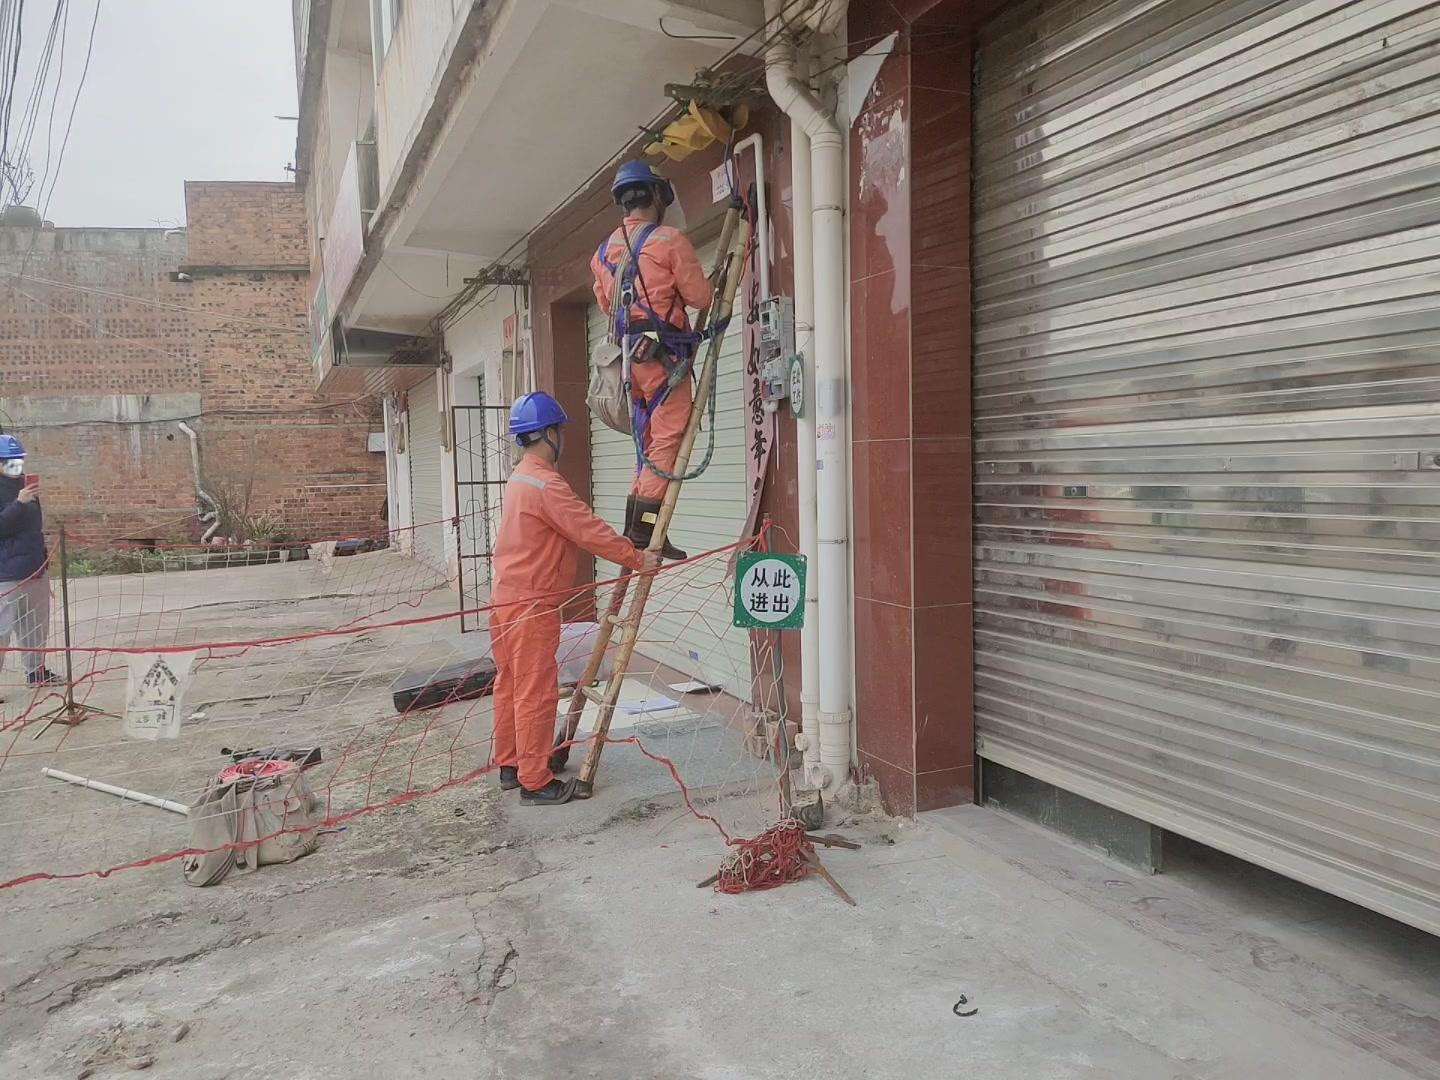halt: (510, 393, 571, 456), (613, 162, 676, 223), (3, 437, 29, 481)
inear: (539, 425, 568, 458)
